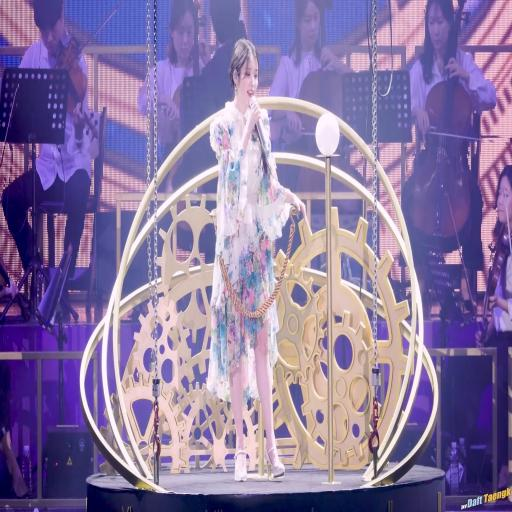IU: (229, 39, 259, 104)
